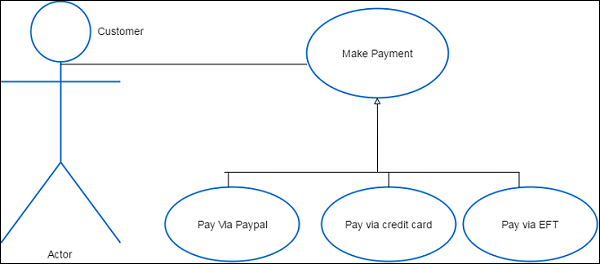actor: (1, 1, 128, 246)
association: (224, 98, 383, 186), (373, 98, 520, 185), (64, 57, 307, 71), (374, 99, 394, 186)
text: (334, 216, 437, 235), (194, 214, 273, 236), (337, 44, 421, 63), (496, 213, 568, 233), (95, 23, 151, 42), (43, 248, 85, 260)
use_case: (303, 6, 451, 100), (162, 184, 303, 264), (319, 183, 458, 264), (461, 184, 600, 264)
